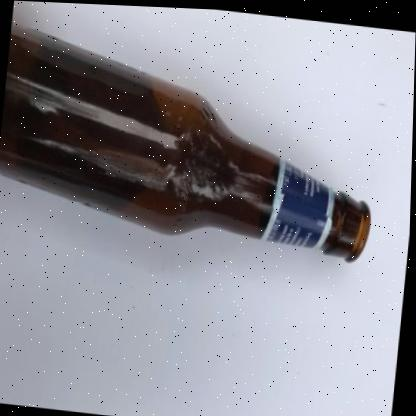Glass: (0, 27, 372, 259)
